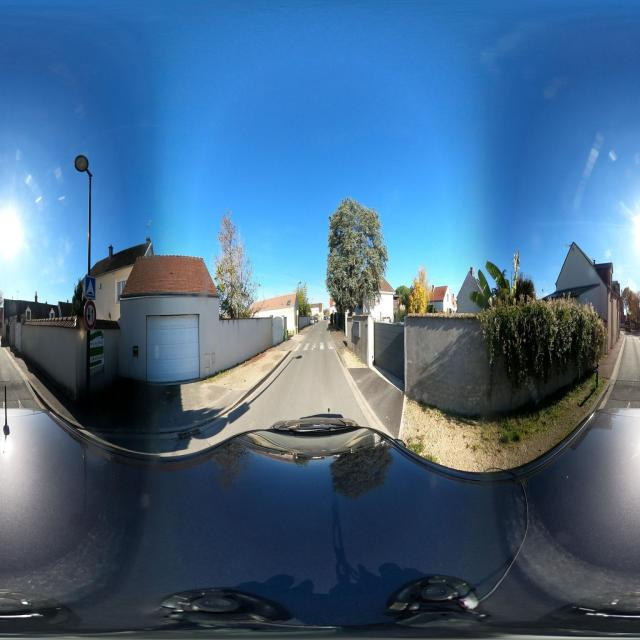car: (625, 316, 637, 334)
